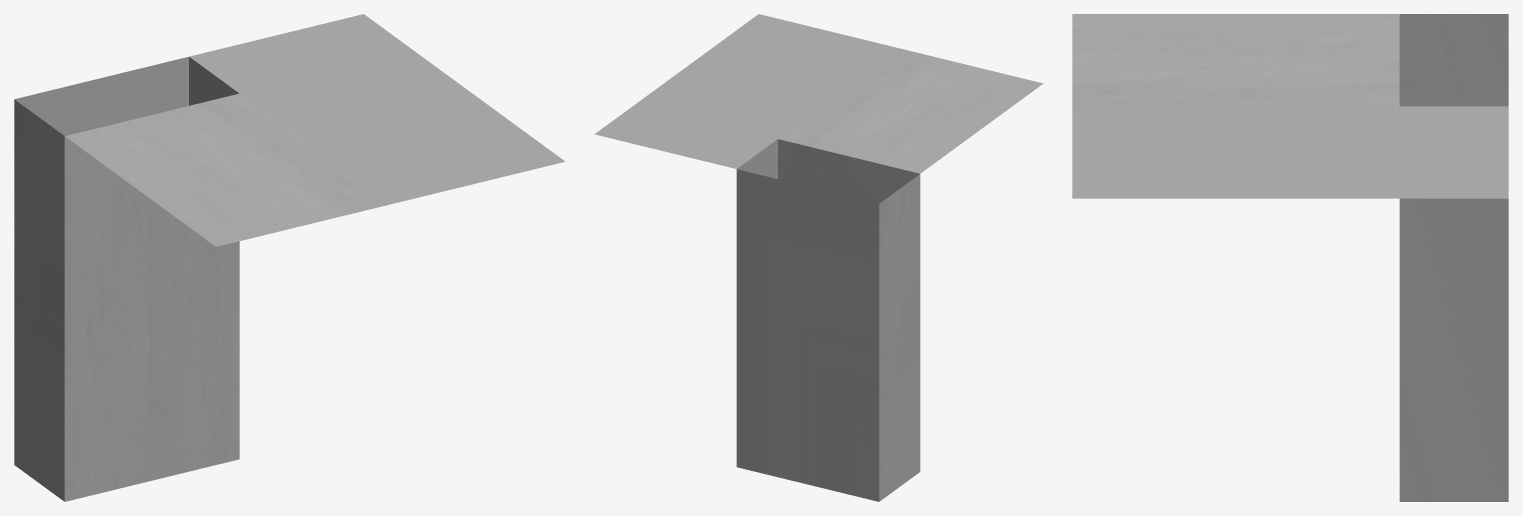
Rendered from flush_ceiling_endCap.glb.
The picture shows the model from 3 angles, left to right: view 1: azimuth 30°, elevation 25°; view 2: azimuth 150°, elevation 25°; view 3: azimuth 270°, elevation 25°; orthographic projection. The views are drawn at different scales.
Visible parts, largest first — view 1: flush.ceiling.endCap; view 2: flush.ceiling.endCap; view 3: flush.ceiling.endCap.
Boxes of the visible parts, <box> form: flush.ceiling.endCap: <box>14,14,565,501</box>; flush.ceiling.endCap: <box>594,14,1043,501</box>; flush.ceiling.endCap: <box>1072,14,1508,501</box>.
Size of the model in its own units: 0.5 by 0.5 by 0.5.
1 material, 1 textured.
